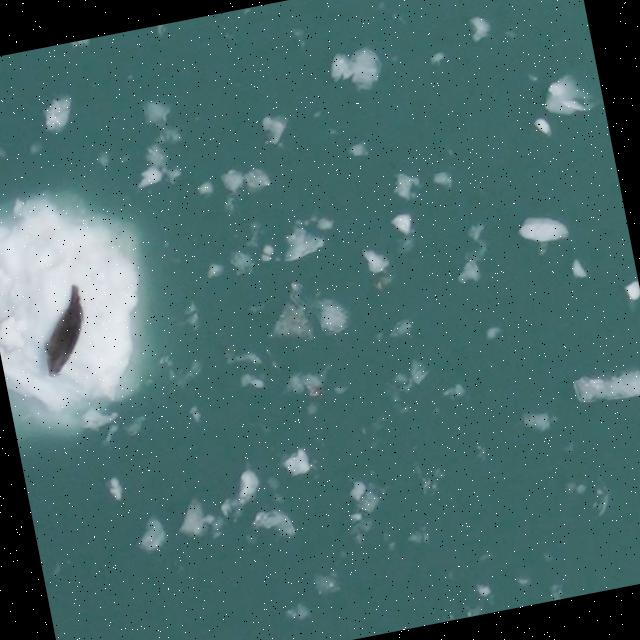seal: (33, 281, 99, 381)
